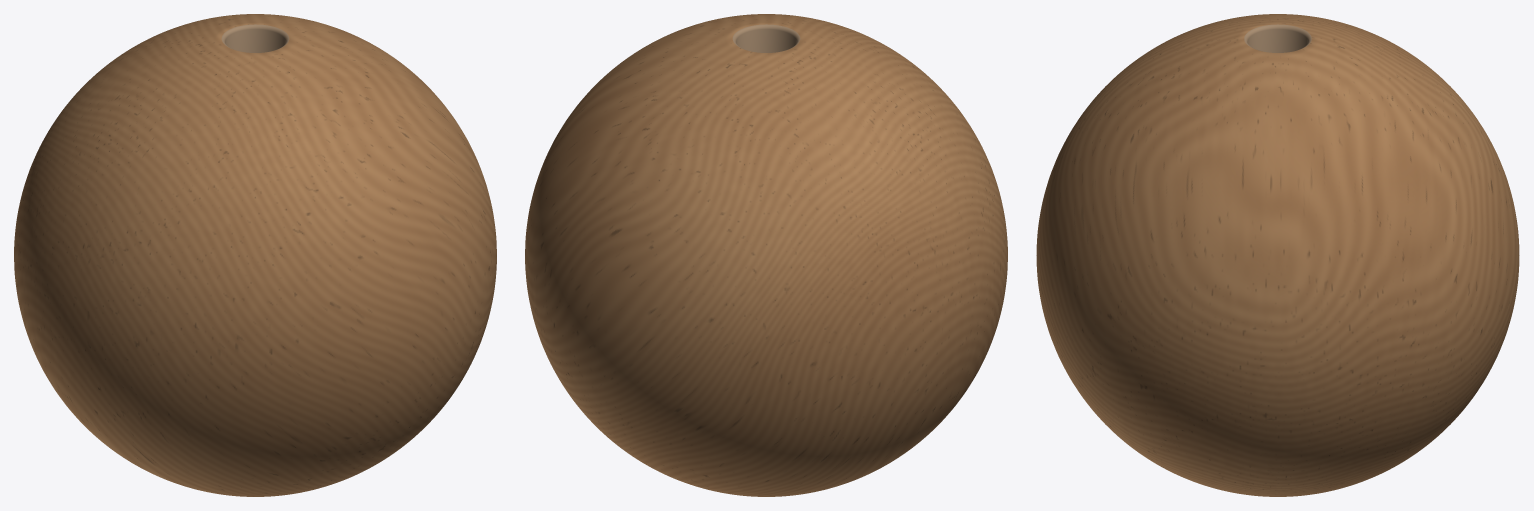
Rendered from peach-wood-8mm.glb.
3 renders of one model, left to right at view 1: azimuth 30°, elevation 25°; view 2: azimuth 150°, elevation 25°; view 3: azimuth 270°, elevation 25°, orthographic.
Visible parts, largest first — view 1: peach-wood; view 2: peach-wood; view 3: peach-wood.
Part boxes in pixels (x1,y1,x2,y2): peach-wood: (14, 14, 496, 496); peach-wood: (525, 14, 1007, 496); peach-wood: (1036, 14, 1519, 496).
Bounding box in the file's own units: 0.008 × 0.00792 × 0.008.
2 materials, 1 textured.
